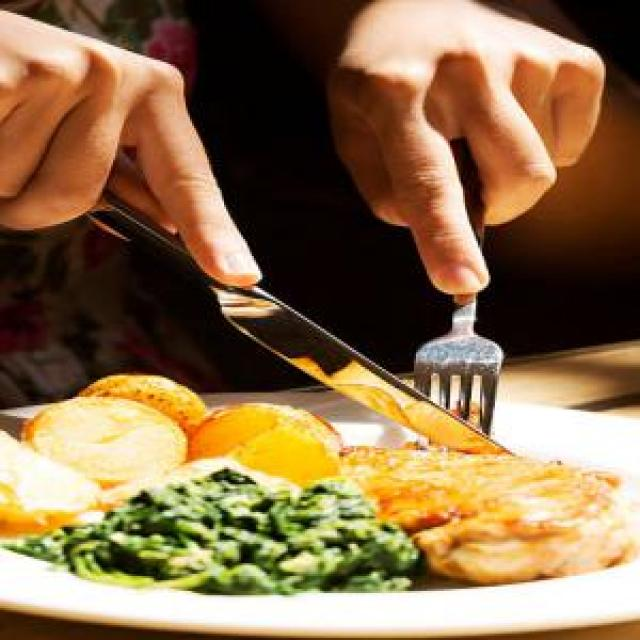knife: (88, 175, 522, 464)
